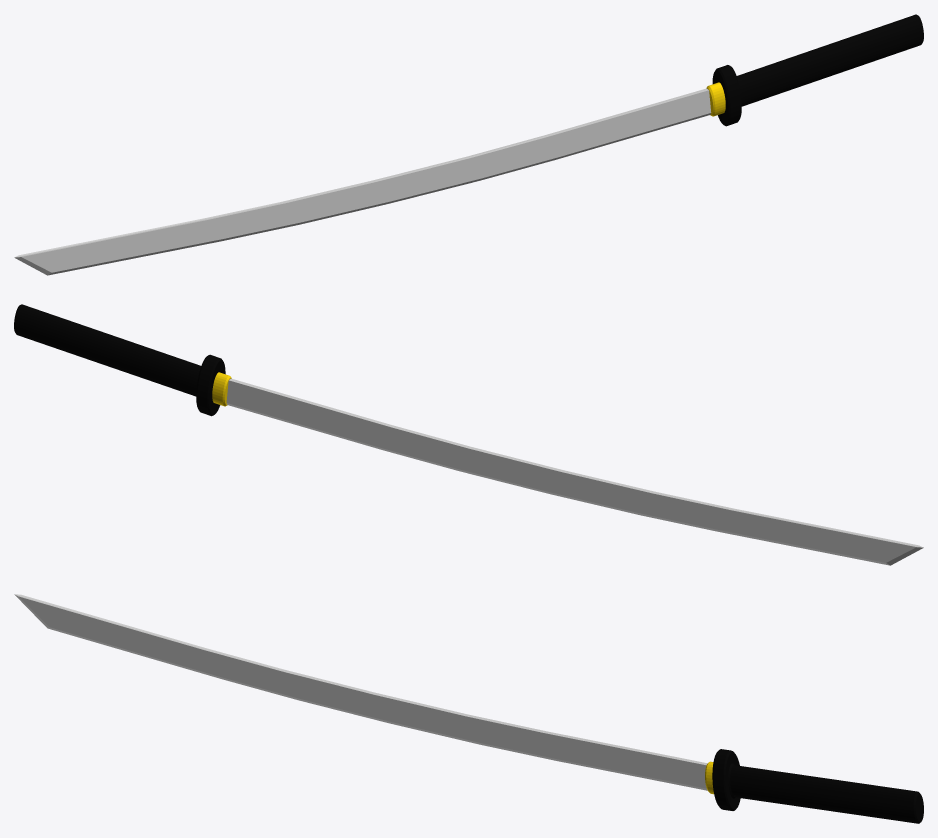
The model's file is katana-by-floopbadmodels123-NVh05eeKiH.glb.
3 views of the same model, one above another, from view 1: azimuth 30°, elevation 25°; view 2: azimuth 150°, elevation 25°; view 3: azimuth 330°, elevation 25° (orthographic).
Parts seen in each view (by area): view 1: Plane, Cylinder; view 2: Plane, Cylinder; view 3: Plane, Cylinder.
Part boxes in pixels (x1=…): Plane: x1=14, y1=88, x2=711, y2=275; Cylinder: x1=706, y1=14, x2=923, y2=126; Plane: x1=226, y1=378, x2=923, y2=565; Cylinder: x1=14, y1=304, x2=231, y2=416; Plane: x1=14, y1=594, x2=707, y2=790; Cylinder: x1=705, y1=749, x2=923, y2=823.
Bounding box in the file's own units: 19.16 × 1.3 × 0.5996.
